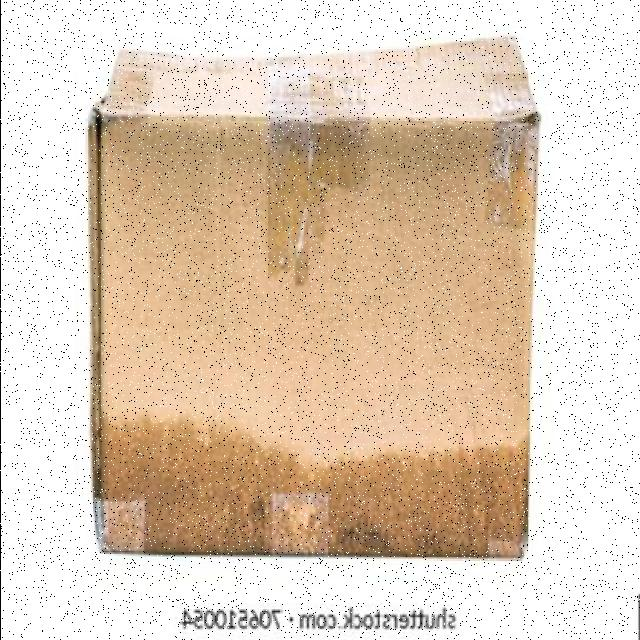defect: (77, 11, 549, 572)
